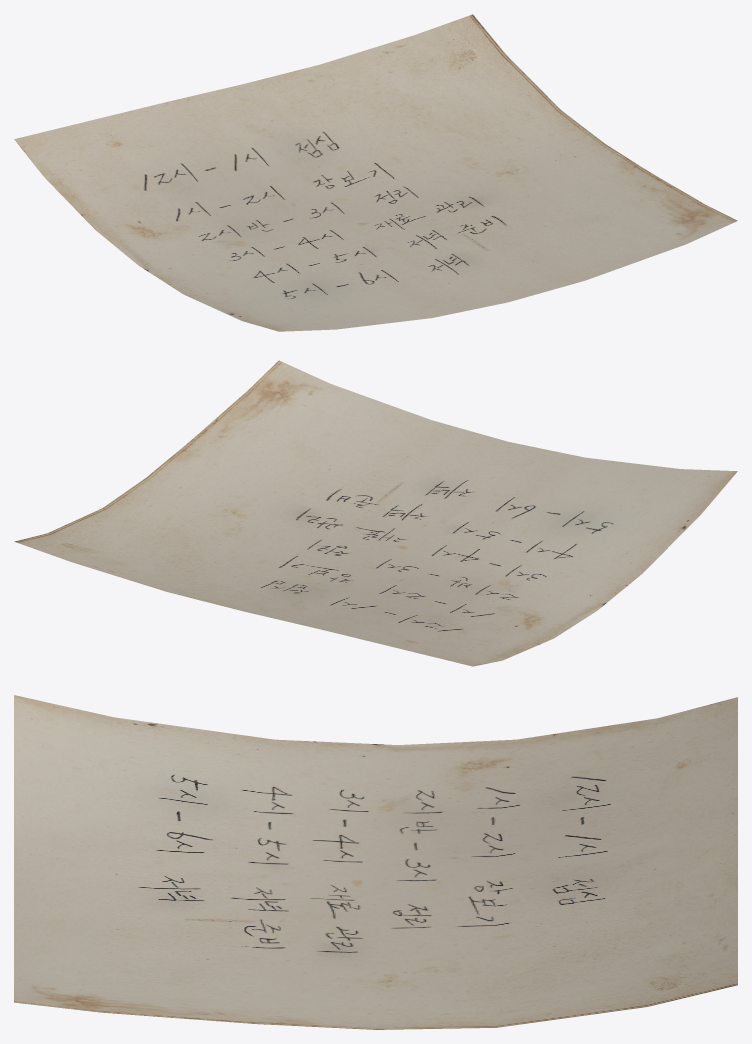
File: MSG_BGLR_Memo.FBX
3 renders of one model, top to bottom at view 1: azimuth 30°, elevation 25°; view 2: azimuth 150°, elevation 25°; view 3: azimuth 270°, elevation 25°, orthographic. The views are drawn at different scales.
Visible parts, largest first — view 1: Plane002; view 2: Plane002; view 3: Plane002.
Part boxes in pixels (x1,y1,x2,y2): Plane002: (14, 14, 737, 331); Plane002: (14, 360, 737, 666); Plane002: (14, 695, 737, 1029).
Bounding box in the file's own units: 30 × 3.01 × 30.
